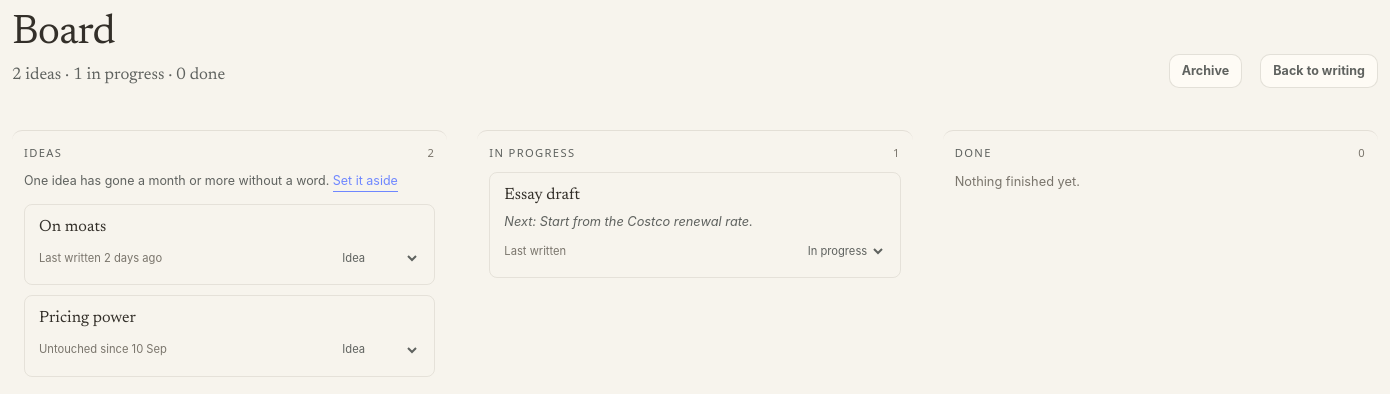
it: a refused settle says what to fix on the board
Select "Done" in the dropdown named "Move “On moats”" at (378, 258), box [336,244,420,272]
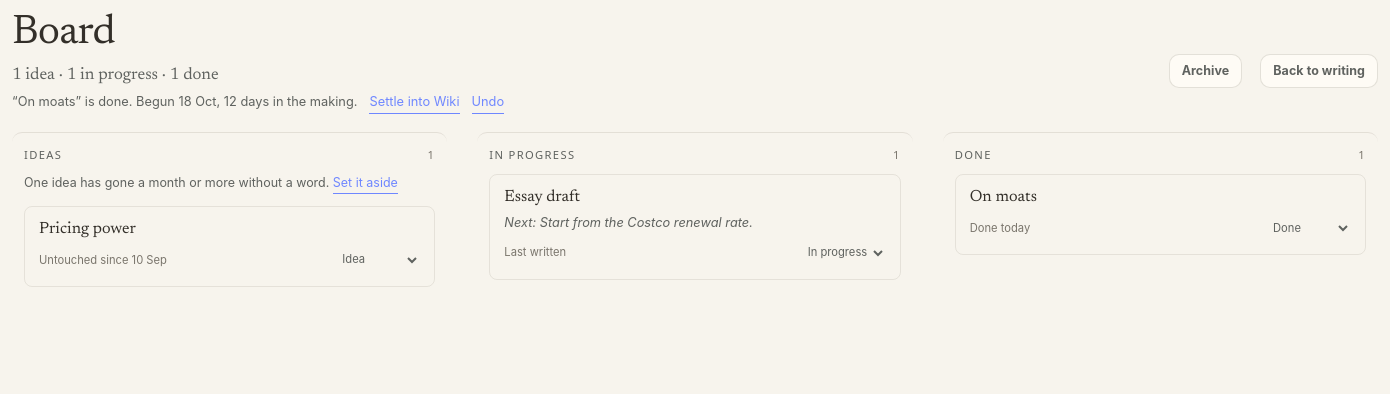
Click the button "Settle into Wiki" at (414, 103), box [370,92,460,114]
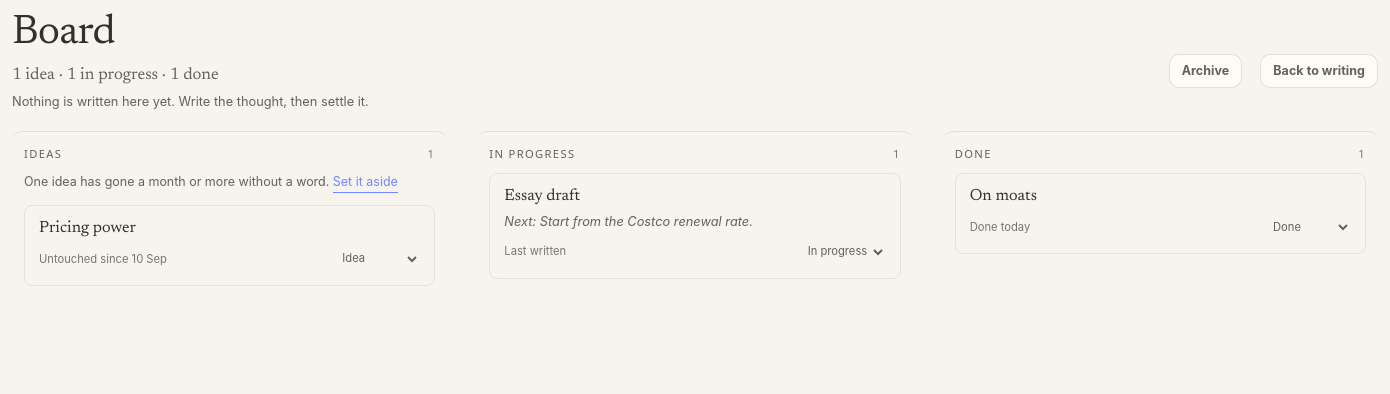
Result: the message reads "Nothing is written here yet. Write the thought, then settle it." at [12,94,369,109]
